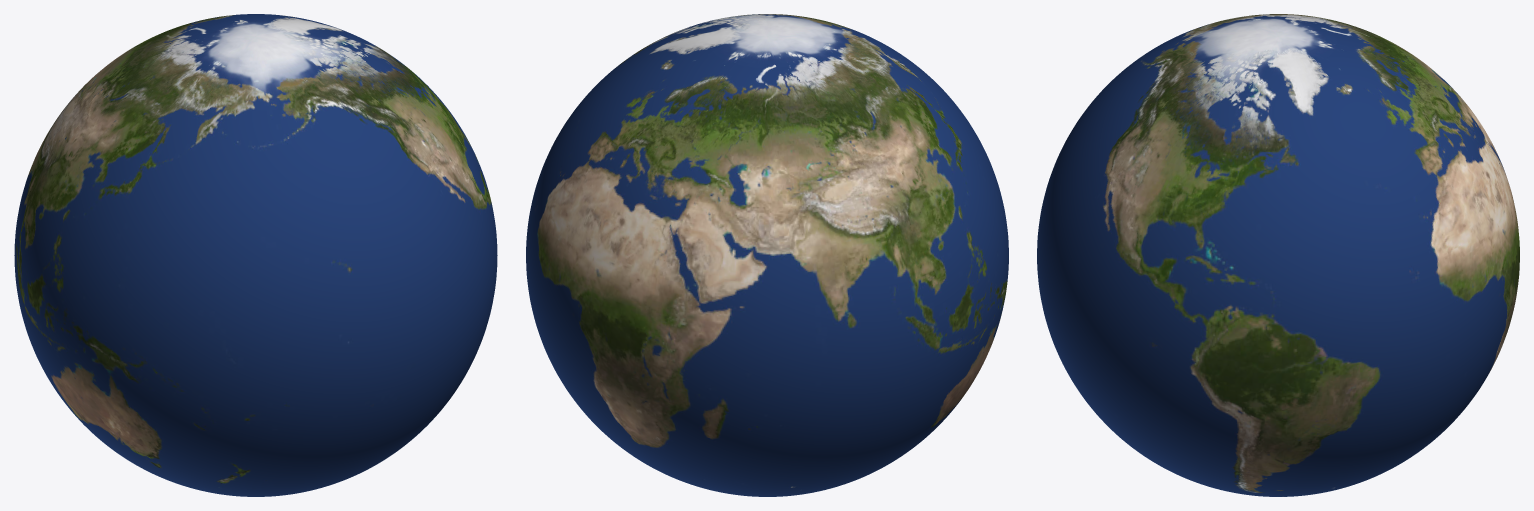
The model's file is tierra.glb.
The picture shows the model from 3 angles, left to right: view 1: azimuth 30°, elevation 25°; view 2: azimuth 150°, elevation 25°; view 3: azimuth 270°, elevation 25°; orthographic projection.
Visible parts, largest first — view 1: Sphere.003; view 2: Sphere.003; view 3: Sphere.003.
Boxes of the visible parts, x1,y1,x2,y2 form: Sphere.003: (14,14,497,496); Sphere.003: (526,14,1008,496); Sphere.003: (1037,14,1519,496).
Size of the model in its own units: 0.4827 by 0.4827 by 0.4827.
Materials: 1 (1 with a texture image).
